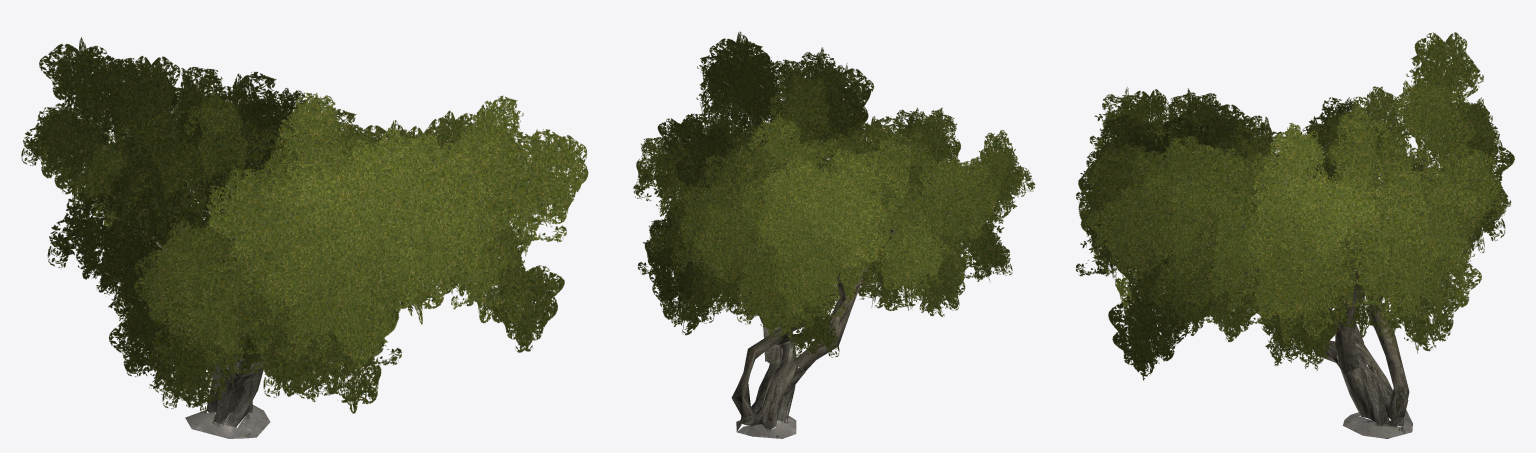
The model's file is island_tree_02.glb.
3 views of the same model, side by side, from view 1: azimuth 30°, elevation 25°; view 2: azimuth 150°, elevation 25°; view 3: azimuth 270°, elevation 25° (orthographic). The views are drawn at different scales.
Parts seen in each view (by area): view 1: leafcards, island_tree_02_LOD0.001; view 2: leafcards, island_tree_02_LOD0.001; view 3: leafcards, island_tree_02_LOD0.001.
Part boxes in pixels (bbox=[...]): leafcards: bbox=[21, 37, 588, 413]; island_tree_02_LOD0.001: bbox=[150, 200, 390, 438]; leafcards: bbox=[633, 31, 1035, 358]; island_tree_02_LOD0.001: bbox=[731, 229, 896, 438]; leafcards: bbox=[1075, 32, 1514, 380]; island_tree_02_LOD0.001: bbox=[1197, 148, 1424, 438].
Bounding box in the file's own units: 4.46 × 3.8 × 4.51.
3 materials, 3 textured.
